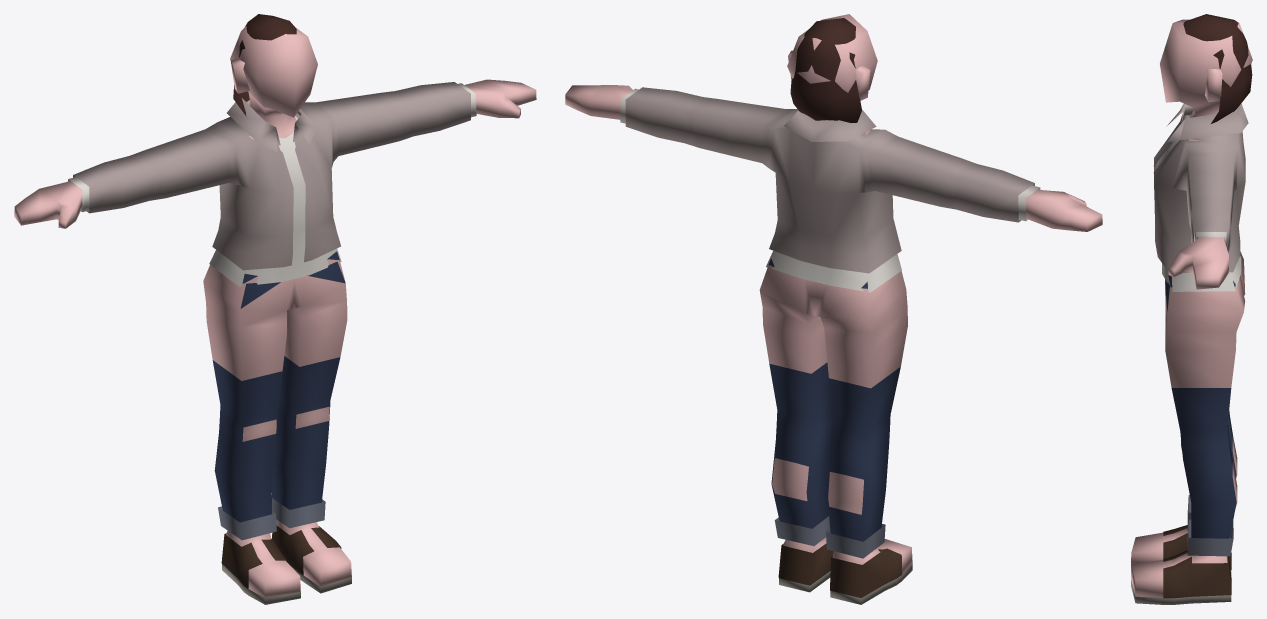
The picture shows the model from 3 angles, left to right: view 1: azimuth 30°, elevation 25°; view 2: azimuth 150°, elevation 25°; view 3: azimuth 270°, elevation 25°; orthographic projection. The views are drawn at different scales.
Visible parts, largest first — view 1: simple.jacket, simple.body, simple.pants, simple.shirt, simple.shoes, simple.hair; view 2: simple.jacket, simple.body, simple.pants, simple.hair, simple.shoes, simple.shirt; view 3: simple.body, simple.jacket, simple.pants, simple.shoes, simple.hair, simple.shirt.
Part boxes in pixels (x1=…): simple.jacket: x1=73, y1=82, x2=470, y2=270; simple.body: x1=14, y1=26, x2=536, y2=598; simple.pants: x1=212, y1=251, x2=345, y2=540; simple.shirt: x1=68, y1=83, x2=476, y2=286; simple.shoes: x1=221, y1=525, x2=351, y2=604; simple.hair: x1=233, y1=14, x2=296, y2=116; simple.jacket: x1=625, y1=87, x2=1034, y2=273; simple.body: x1=565, y1=14, x2=1102, y2=573; simple.pants: x1=768, y1=258, x2=900, y2=558; simple.hair: x1=790, y1=18, x2=861, y2=122; simple.shoes: x1=778, y1=543, x2=912, y2=604; simple.shirt: x1=620, y1=88, x2=1040, y2=292; simple.body: x1=1131, y1=19, x2=1252, y2=597; simple.jacket: x1=1153, y1=103, x2=1248, y2=272; simple.pants: x1=1165, y1=275, x2=1236, y2=556; simple.shoes: x1=1131, y1=525, x2=1231, y2=604; simple.hair: x1=1183, y1=14, x2=1252, y2=123; simple.shirt: x1=1156, y1=109, x2=1241, y2=291.
Size of the model in its own units: 1.62 by 1.65 by 0.3225.
